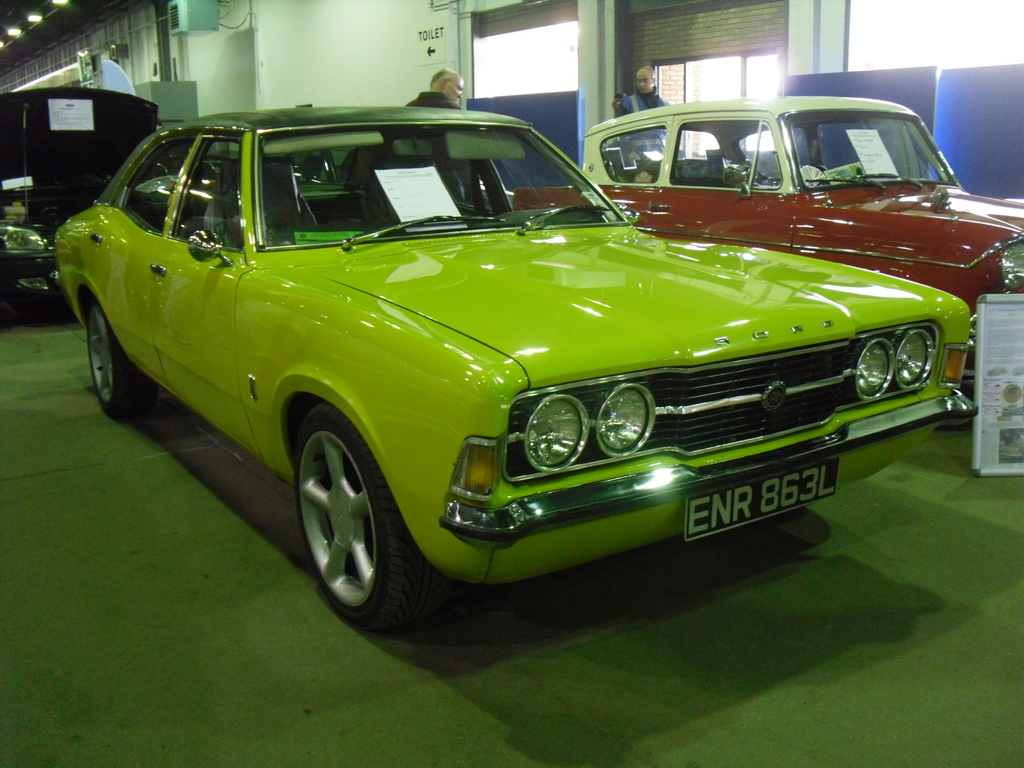Car: (51, 104, 976, 631), (510, 97, 1023, 385), (0, 88, 163, 309), (0, 92, 83, 330)
